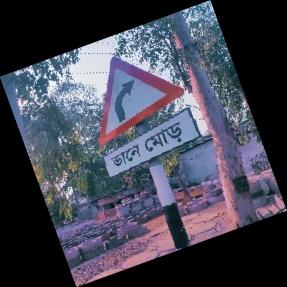Right-turn: (96, 57, 202, 180)
